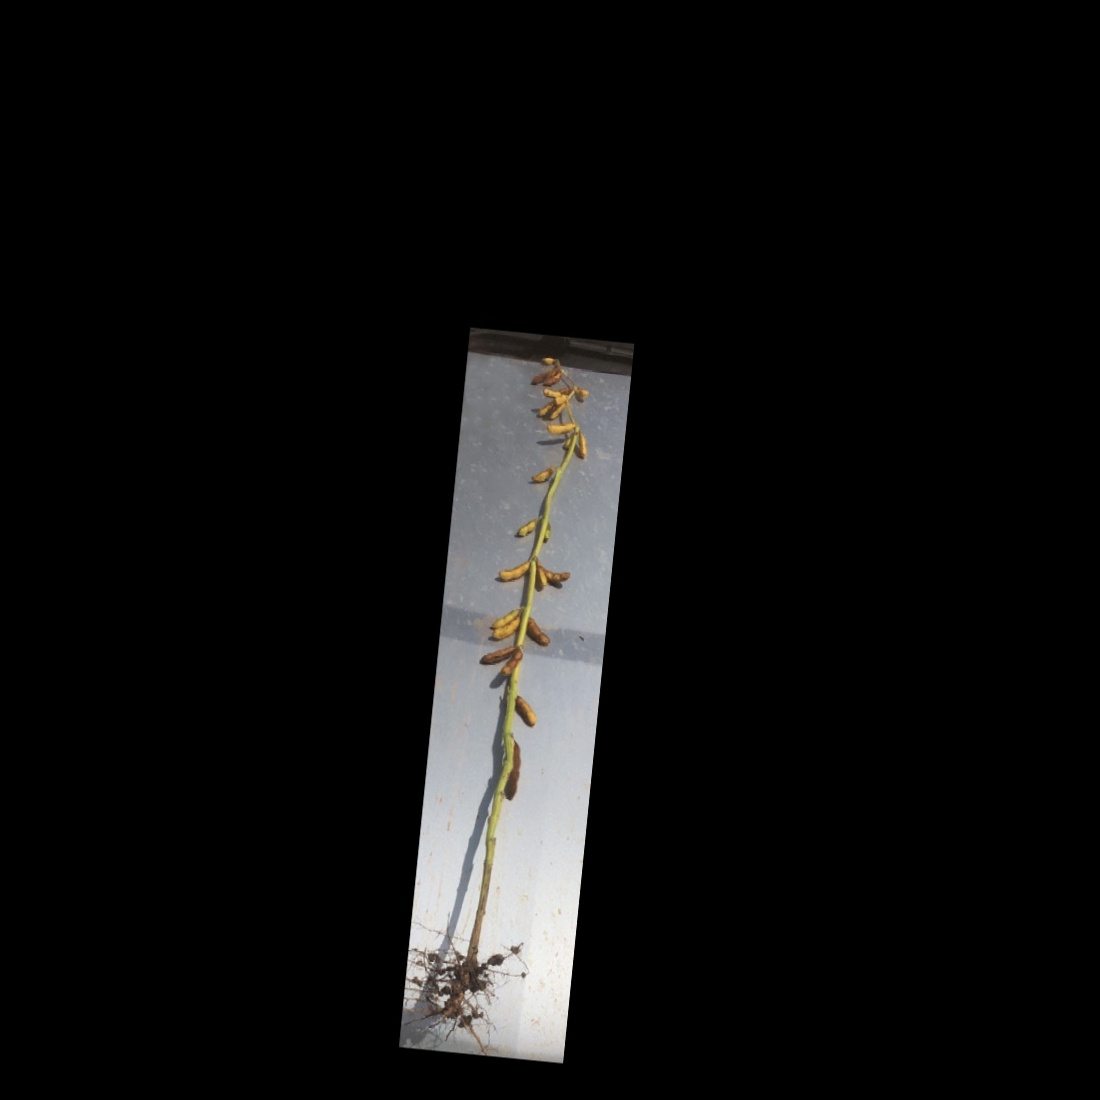pod: (501, 735, 526, 802), (473, 635, 517, 668), (521, 613, 555, 648), (509, 693, 538, 728), (496, 558, 532, 586), (500, 648, 526, 679), (543, 417, 574, 438), (513, 517, 539, 539), (575, 428, 591, 462), (529, 462, 556, 483), (571, 382, 593, 403), (539, 385, 562, 399), (537, 353, 556, 369), (543, 517, 553, 544)
soy: (410, 334, 621, 1048)
